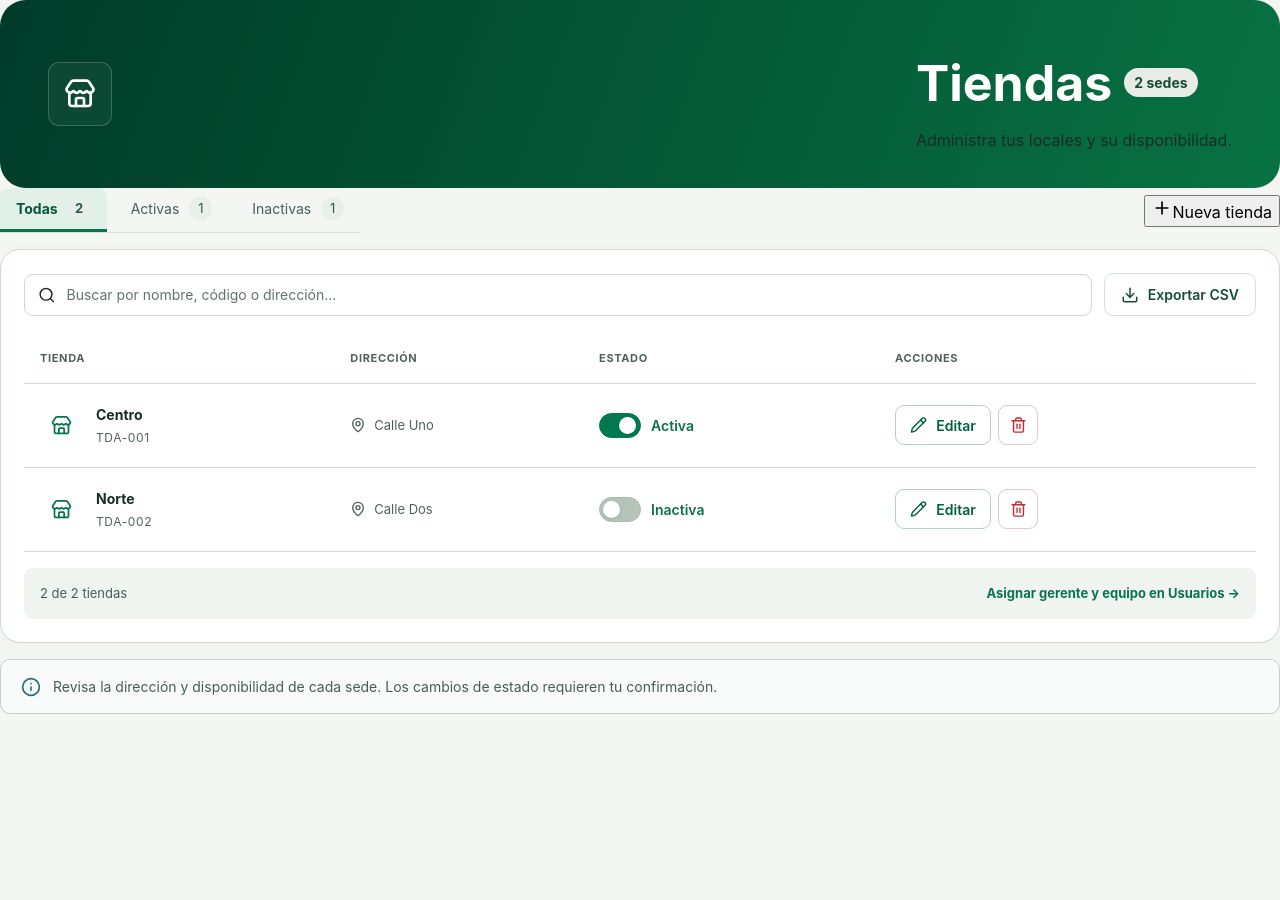
Scenario: store reference layout › asks for confirmation before changing an active store
Expected: the text "Centro" is shown, left=96, top=406, right=142, bottom=422
What coordinates should you click on to do the following:
click the switch named "Desactivar Centro"
I would click on:
 (620, 425)
Its box is left=599, top=412, right=641, bottom=438.
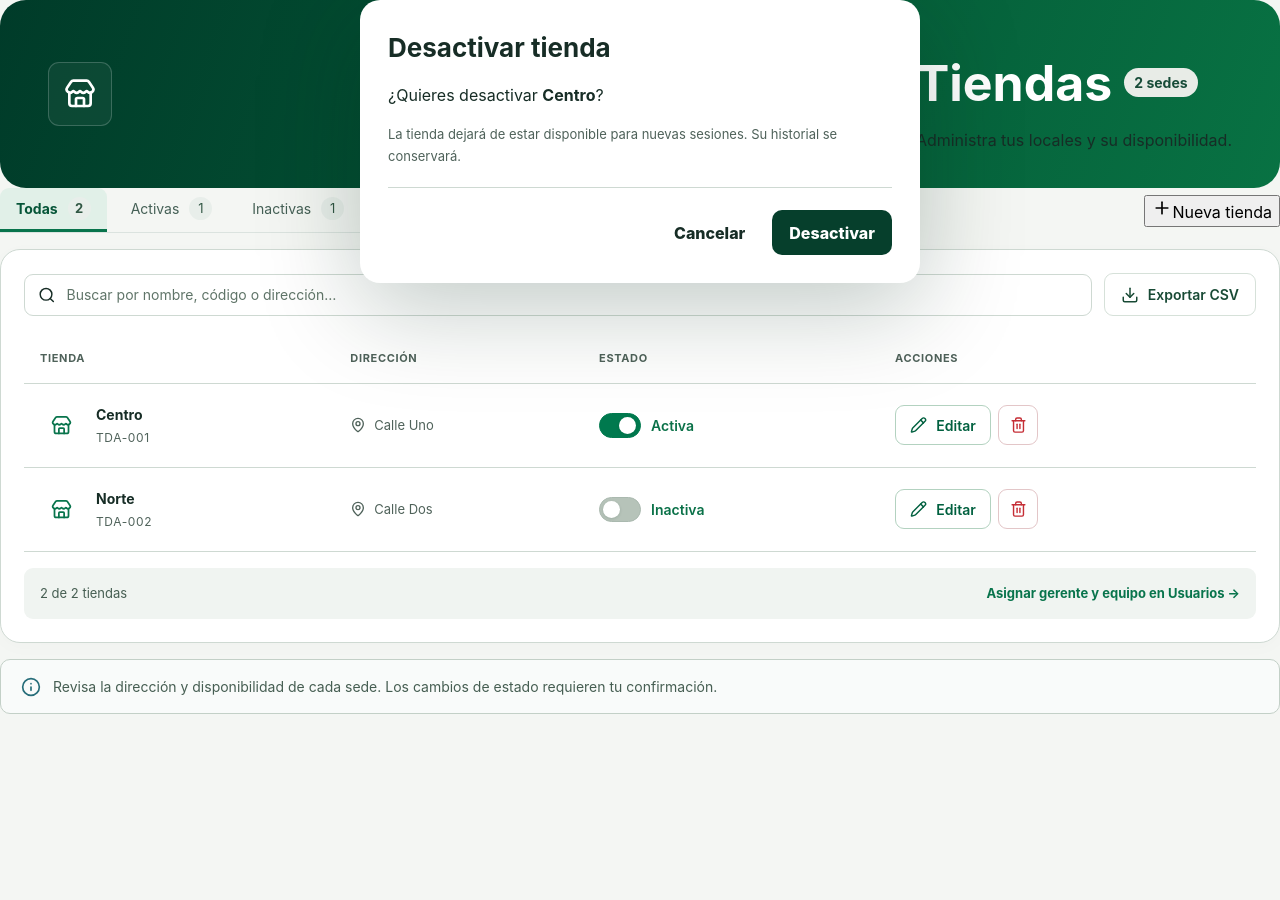
Now the dialog "Desactivar tienda" is shown, box left=360, top=0, right=920, bottom=283
